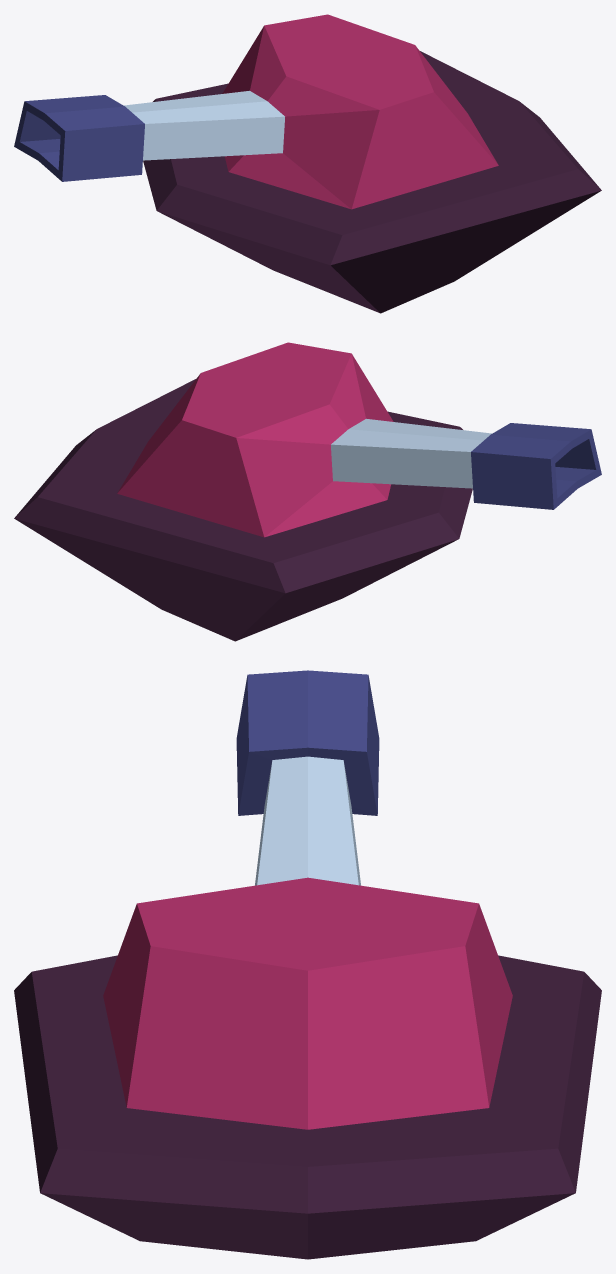
Rendered from Tank.fbx.
3 renders of one model, top to bottom at view 1: azimuth 30°, elevation 25°; view 2: azimuth 150°, elevation 25°; view 3: azimuth 270°, elevation 25°, orthographic. The views are drawn at different scales.
Visible parts, largest first — view 1: Turret; view 2: Turret; view 3: Turret.
Boxes of the visible parts, left/top/right/bottom form: Turret: left=14, top=14, right=601, bottom=313; Turret: left=14, top=342, right=601, bottom=641; Turret: left=14, top=670, right=601, bottom=1259.
Bounding box in the file's own units: 246 × 99.68 × 168.
